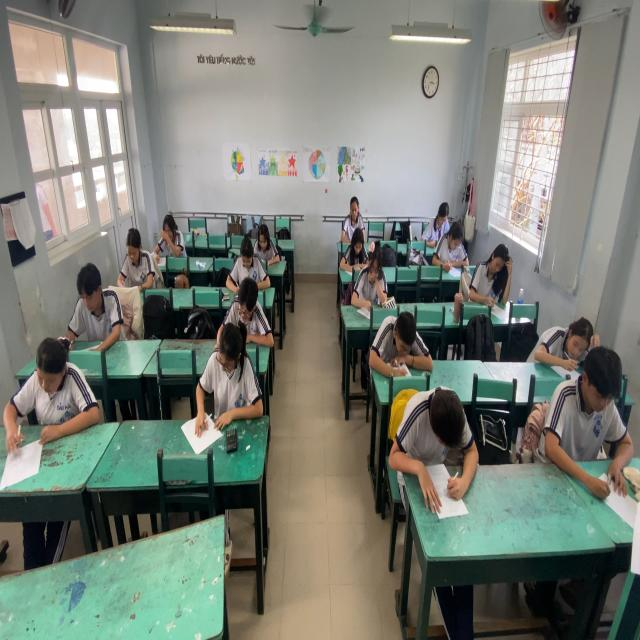not_cheating: (552, 346, 624, 507), (400, 382, 473, 507), (27, 334, 82, 439), (202, 325, 252, 423), (67, 262, 118, 354), (531, 304, 590, 372), (467, 239, 519, 315), (368, 314, 429, 374), (351, 237, 392, 313), (114, 214, 152, 294), (428, 215, 472, 275), (228, 276, 264, 344), (154, 205, 182, 262), (232, 239, 265, 284), (252, 214, 280, 265), (424, 199, 452, 249), (340, 224, 366, 273), (340, 192, 361, 232)
